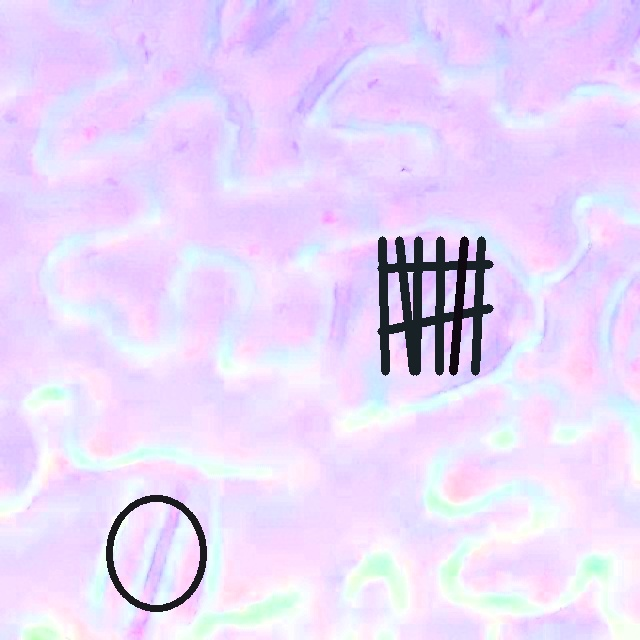open: (377, 236, 493, 375), (106, 494, 205, 612)
